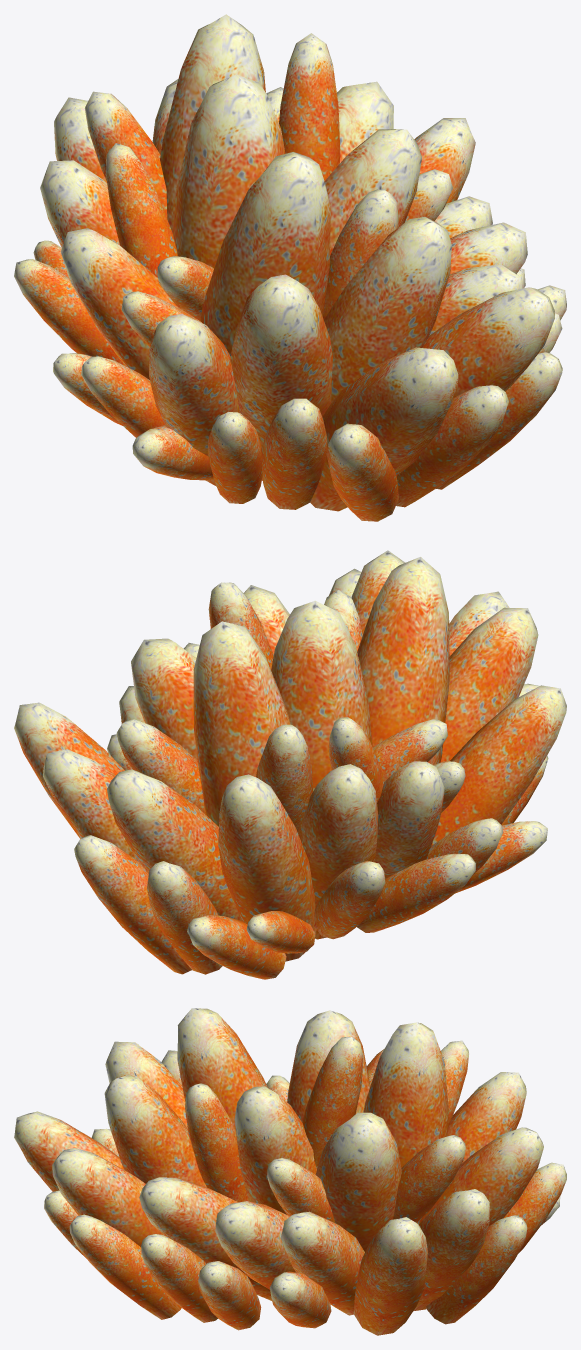
Rendered from Coral_04.fbx.
3 renders of one model, top to bottom at view 1: azimuth 30°, elevation 25°; view 2: azimuth 150°, elevation 25°; view 3: azimuth 270°, elevation 25°, orthographic. The views are drawn at different scales.
Parts seen in each view (by area): view 1: Coral_04; view 2: Coral_04; view 3: Coral_04.
Boxes of the visible parts, box(x1,y1,x2,y2) form: Coral_04: box(14, 14, 566, 521); Coral_04: box(14, 550, 566, 979); Coral_04: box(14, 1008, 566, 1335).
Size of the model in its own units: 0.5793 by 0.4538 by 0.7812.
